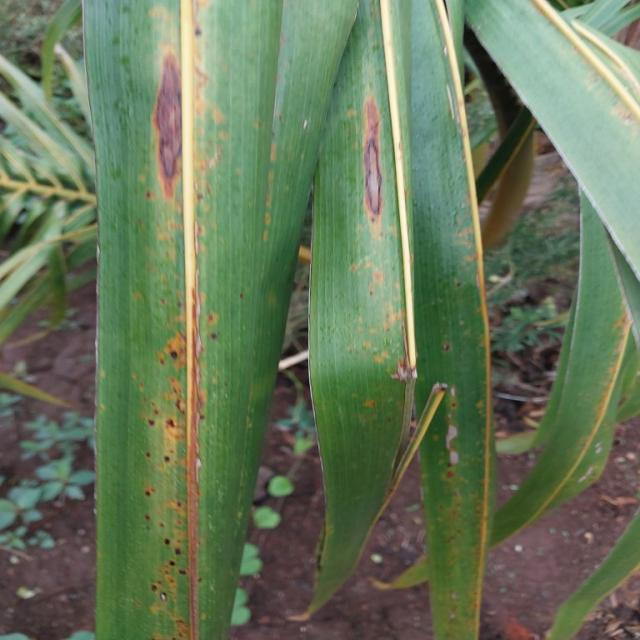gray leaf spot: (128, 299, 215, 638), (119, 9, 222, 284), (345, 90, 403, 262)
